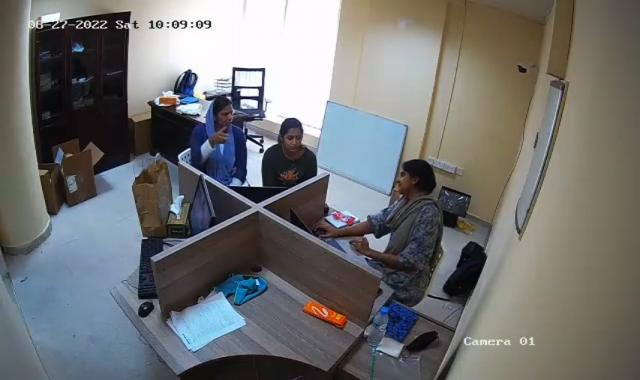no_hairnet: (399, 154, 439, 199), (280, 112, 308, 151), (203, 94, 230, 132)
